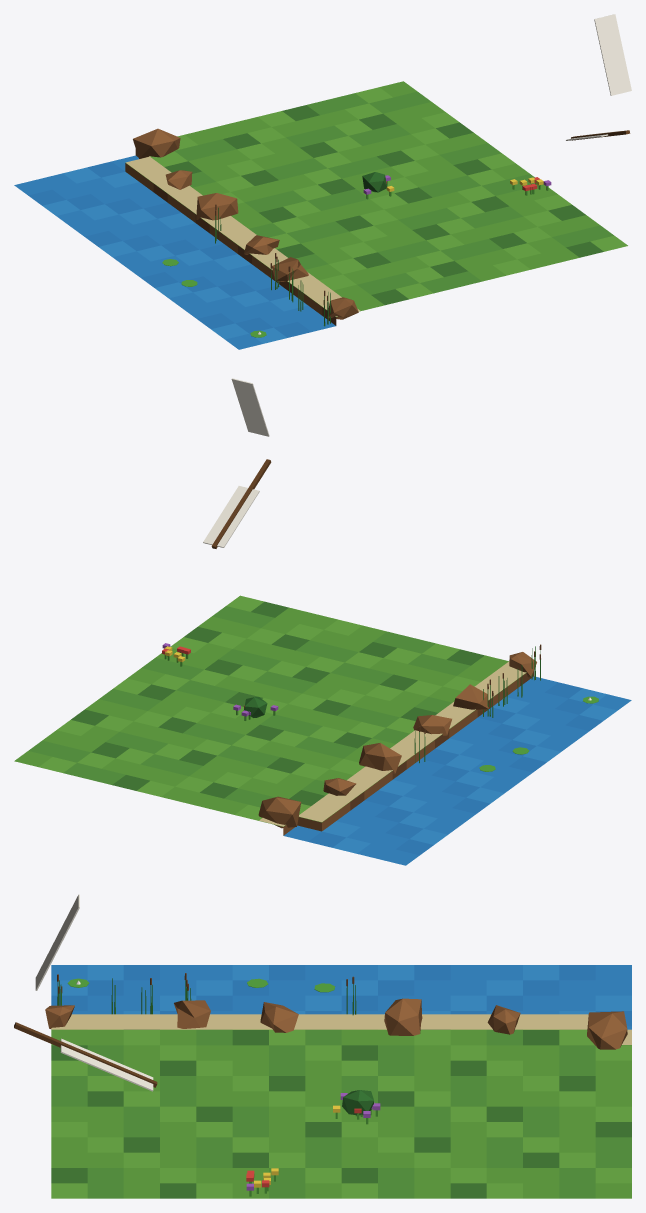
Rendered from chunk_0_6.glb.
3 views of the same model, one above another, from view 1: azimuth 30°, elevation 25°; view 2: azimuth 150°, elevation 25°; view 3: azimuth 270°, elevation 25° (orthographic). The views are drawn at different scales.
Parts seen in each view (by area): view 1: chunk_0_6; view 2: chunk_0_6; view 3: chunk_0_6.
Part boxes in pixels (<box>): chunk_0_6: <box>14,14,631,349</box>; chunk_0_6: <box>14,378,631,865</box>; chunk_0_6: <box>14,894,631,1198</box>.
Size of the model in its own units: 16 by 9.33 by 17.03.
